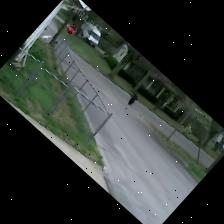person: (125, 93, 136, 108)
